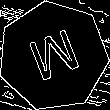M_S: (22, 24, 84, 88)
